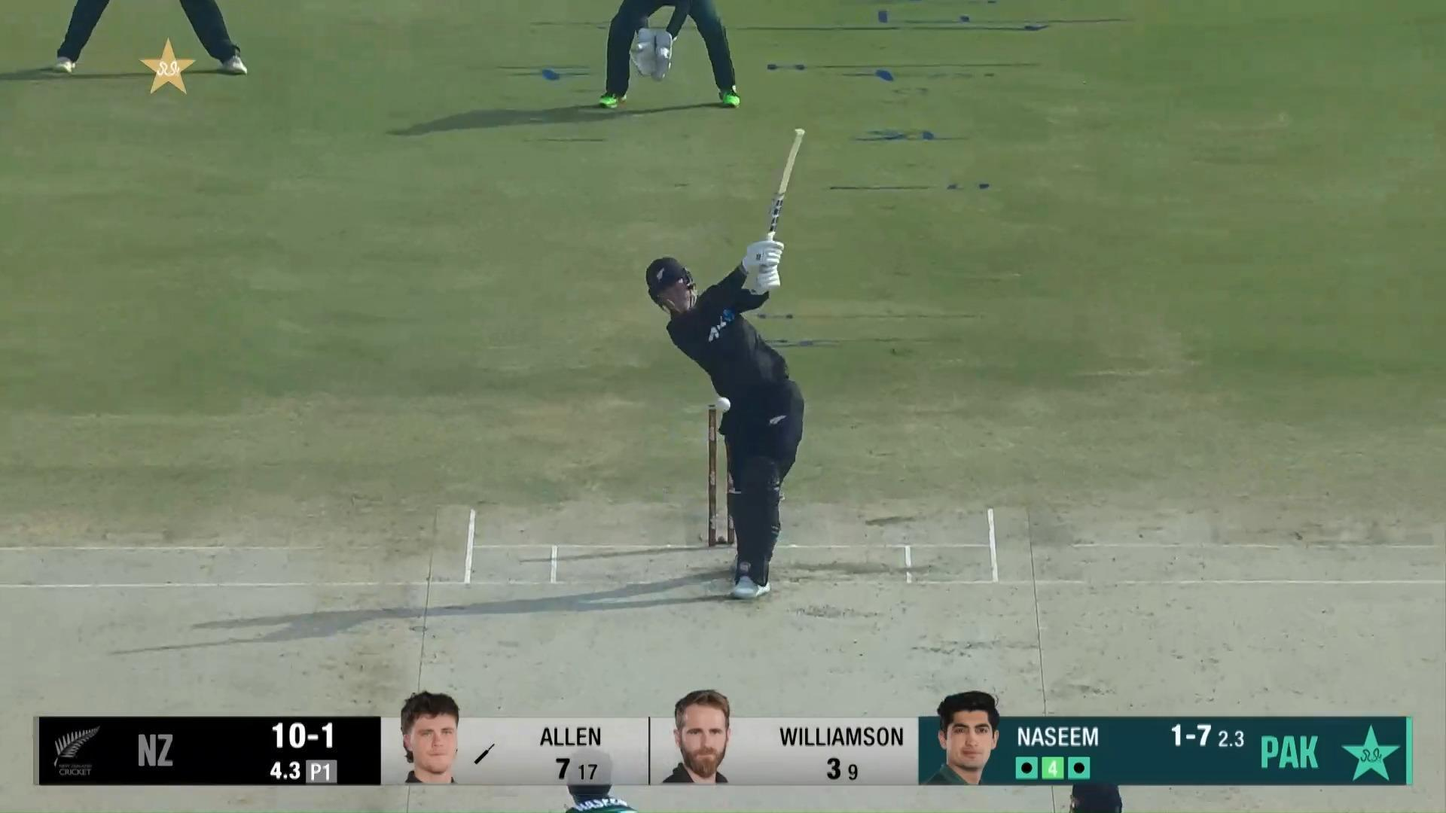BM 1: (645, 128, 805, 599)
BO: (555, 747, 640, 813)
